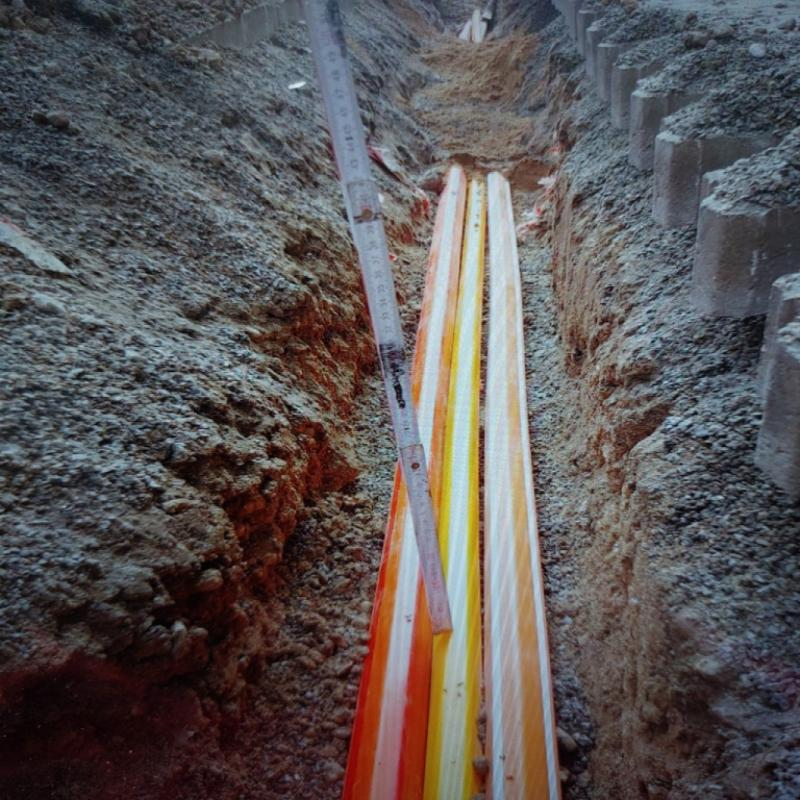Orang-Speednetrohrchen: (344, 165, 468, 800), (487, 172, 554, 800), (428, 180, 482, 800)
